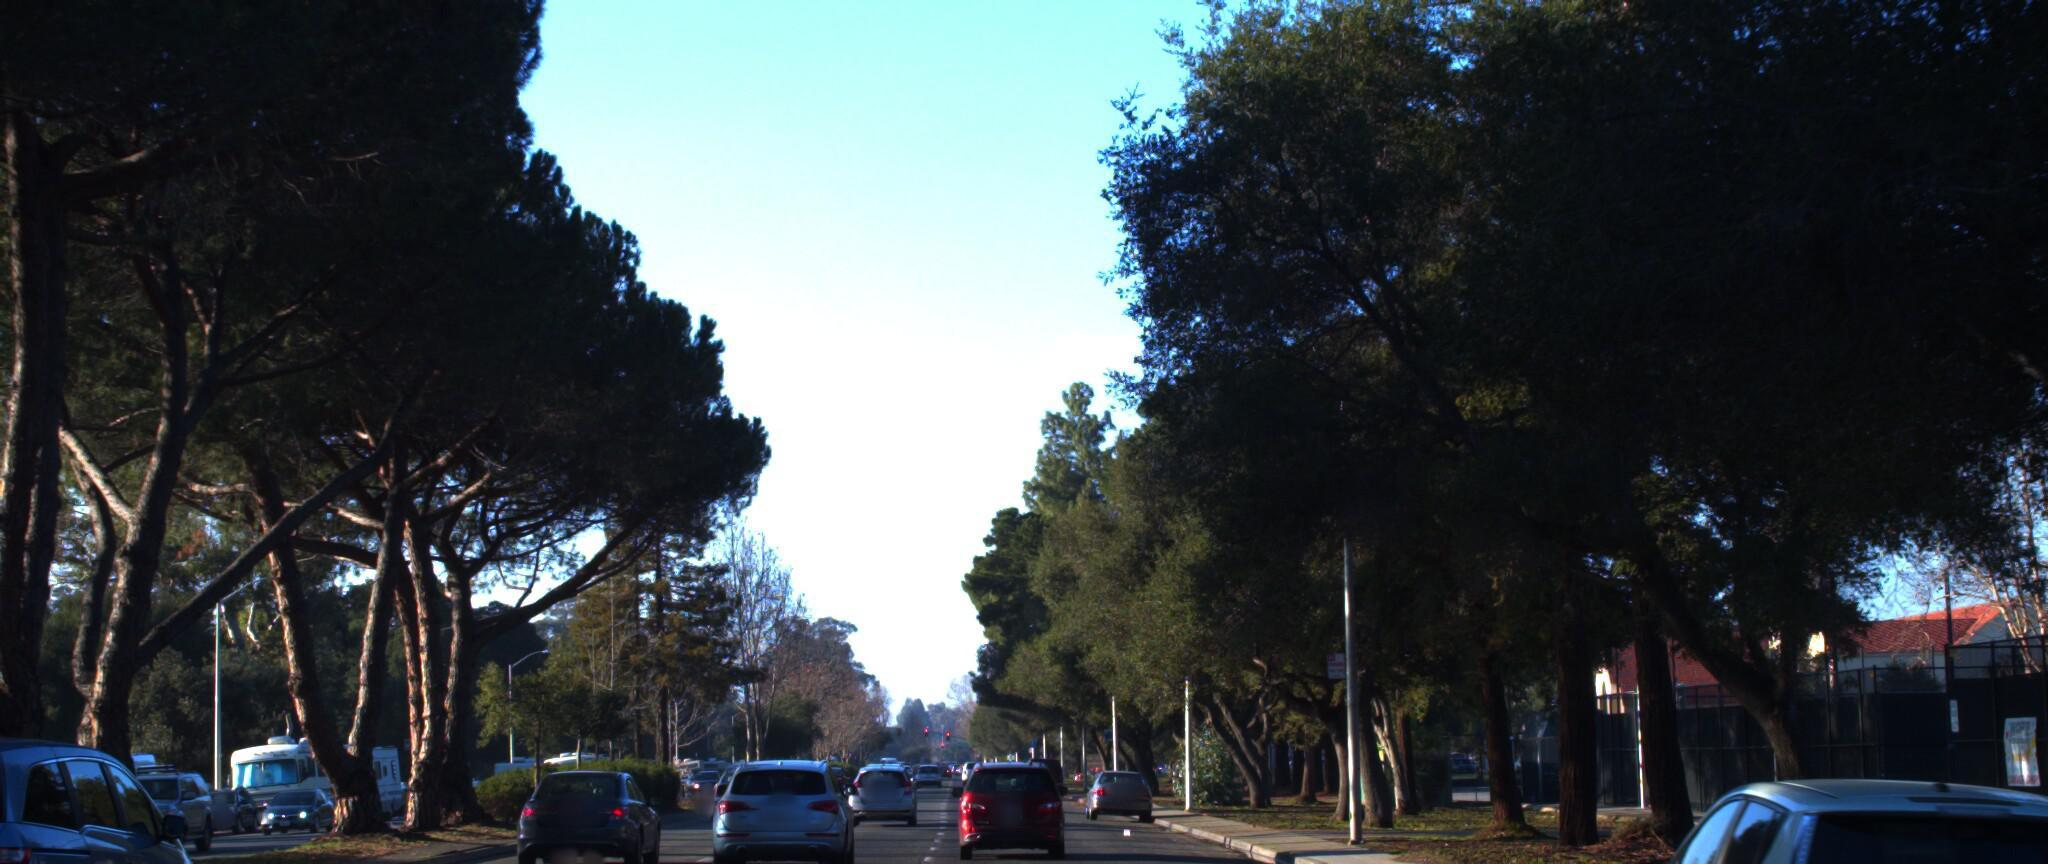car: (1543, 754, 2048, 864), (0, 726, 226, 864), (705, 750, 854, 864), (509, 750, 660, 861), (88, 757, 218, 850), (957, 754, 1070, 854), (859, 750, 933, 813)
